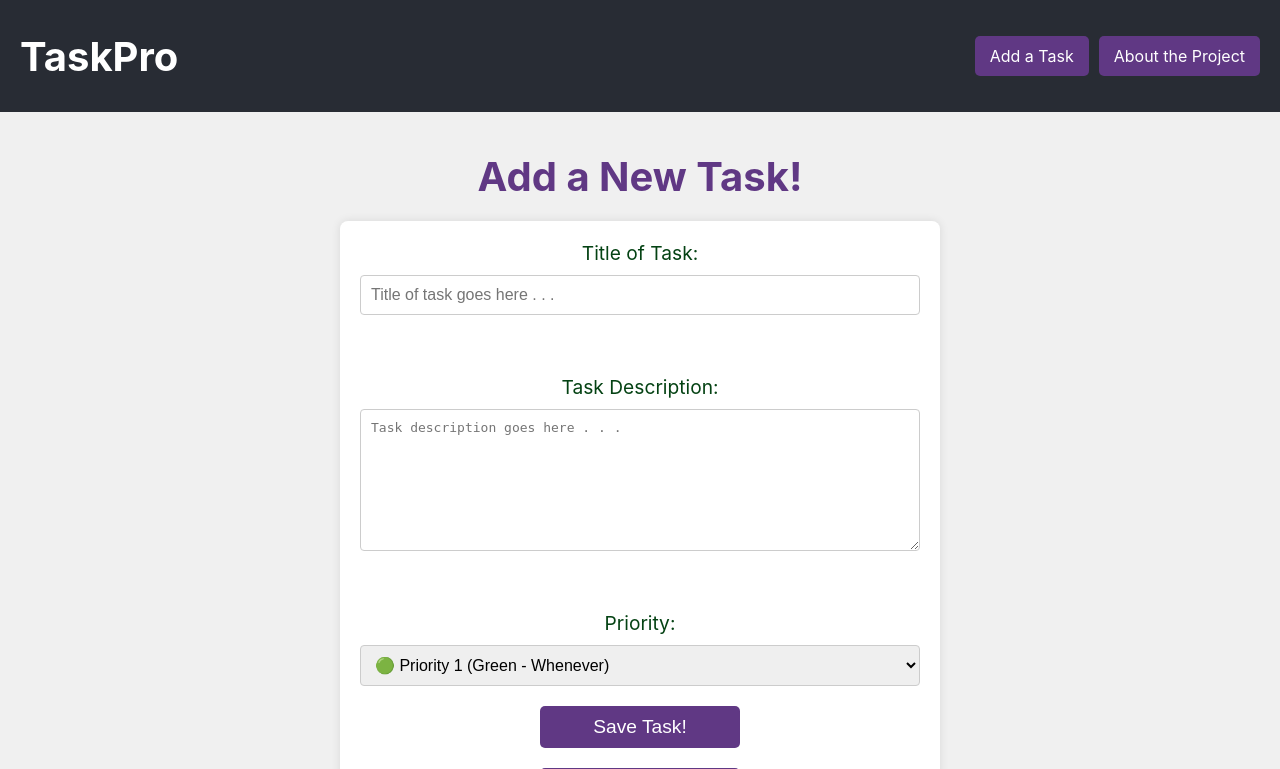
Test: HomePage functionality › should add a new task and display it on the homepage
This screenshot has width=1280, height=769.
Type "Sample Task Title" into the field named "taskTitle" at (640, 295), box top-left (360, 275), bottom-right (920, 315)
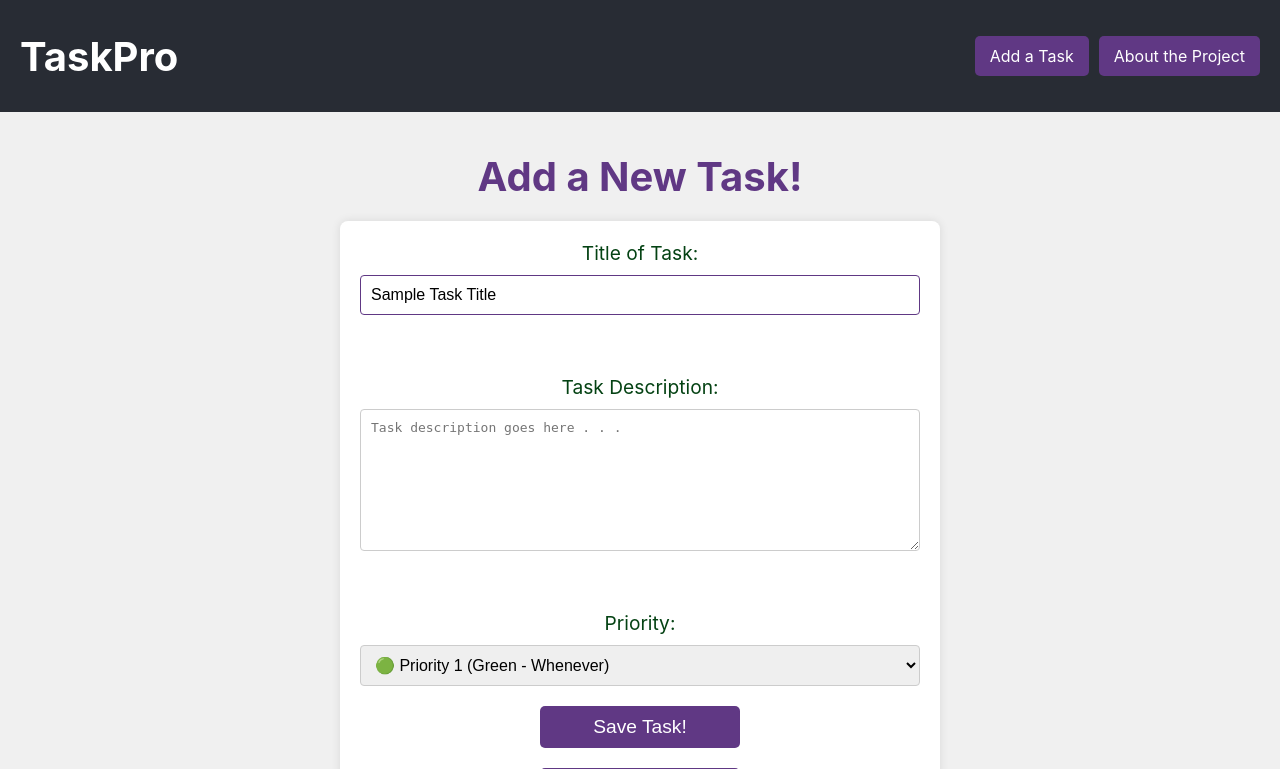
Type "Sample task description" into the text box named "taskDescription" at (640, 480), box top-left (360, 409), bottom-right (920, 551)
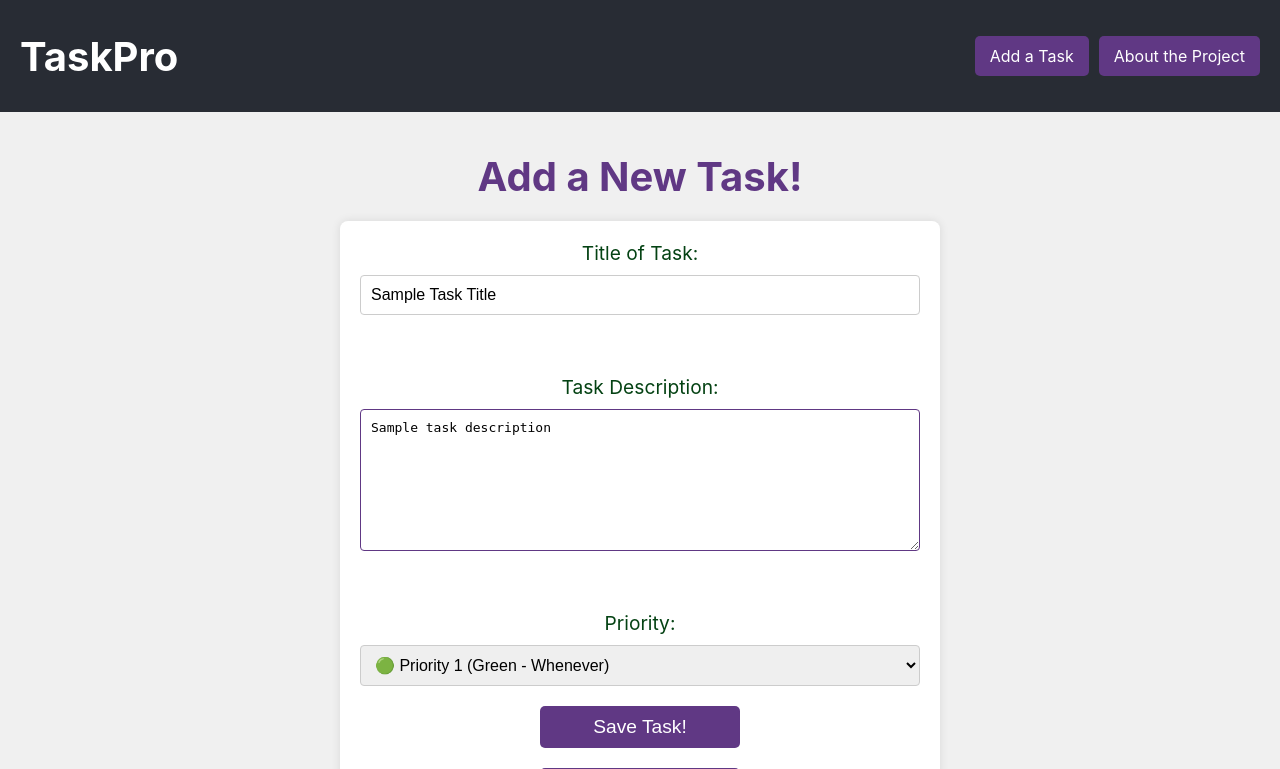
Select "🔵 Priority 2 (Blue - Start Planning)" in the dropdown with id "taskPriority" at (640, 666), box top-left (360, 645), bottom-right (920, 686)
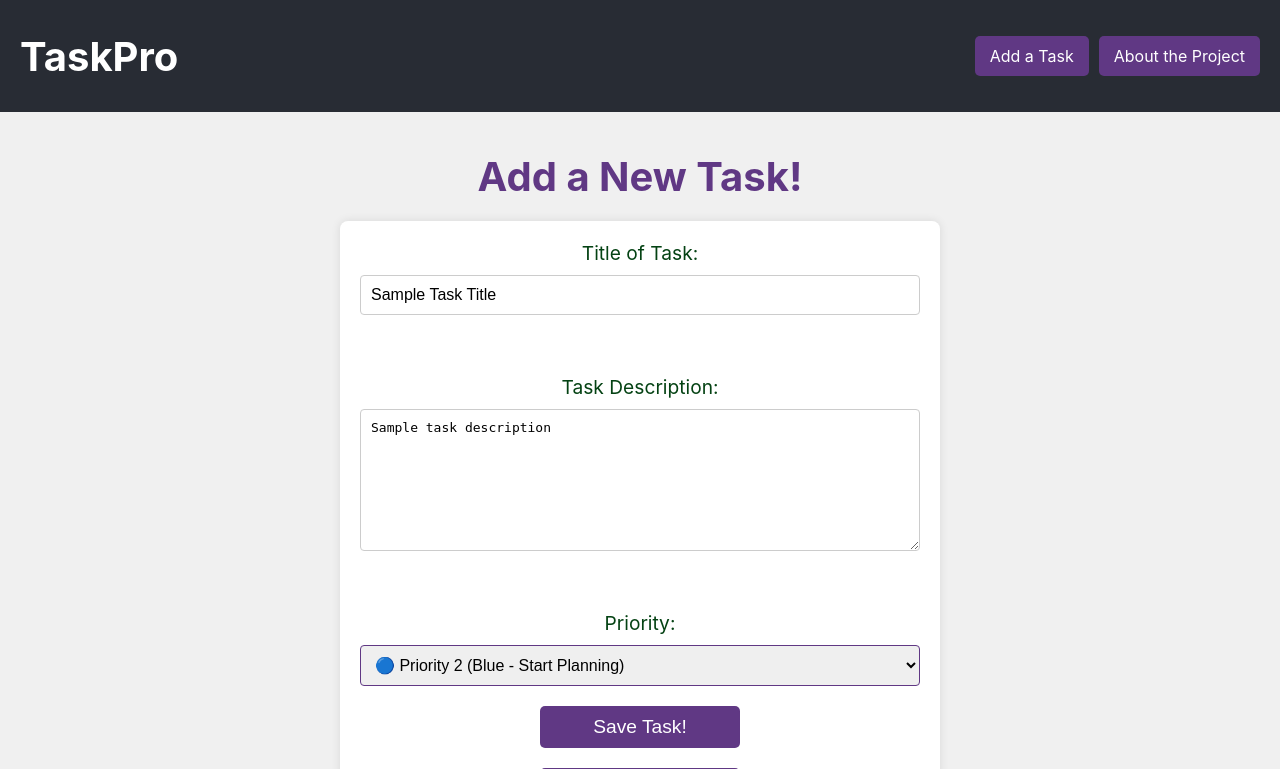
Click the button "Save Task!" at (640, 727), box top-left (540, 706), bottom-right (740, 748)
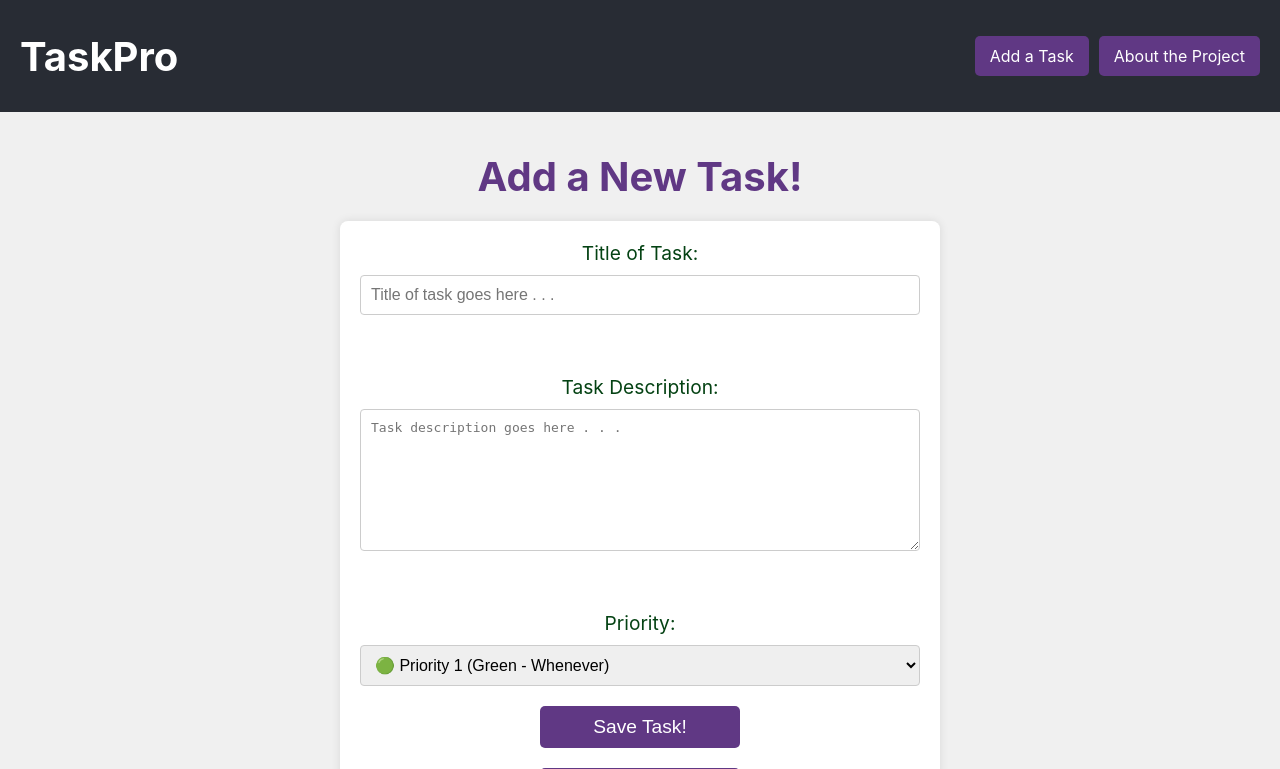
Scroll
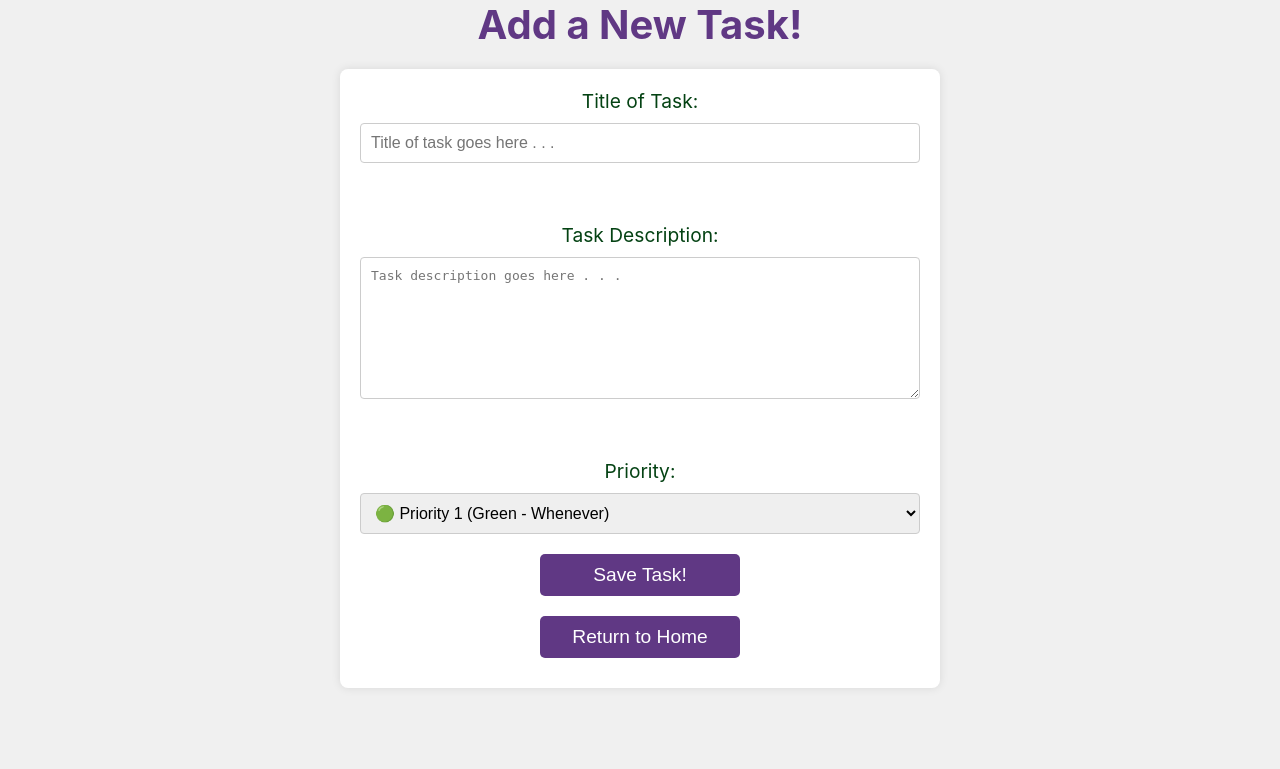
Click the button "Return to Home" at (640, 637), box top-left (540, 616), bottom-right (740, 658)
(page scrolled)
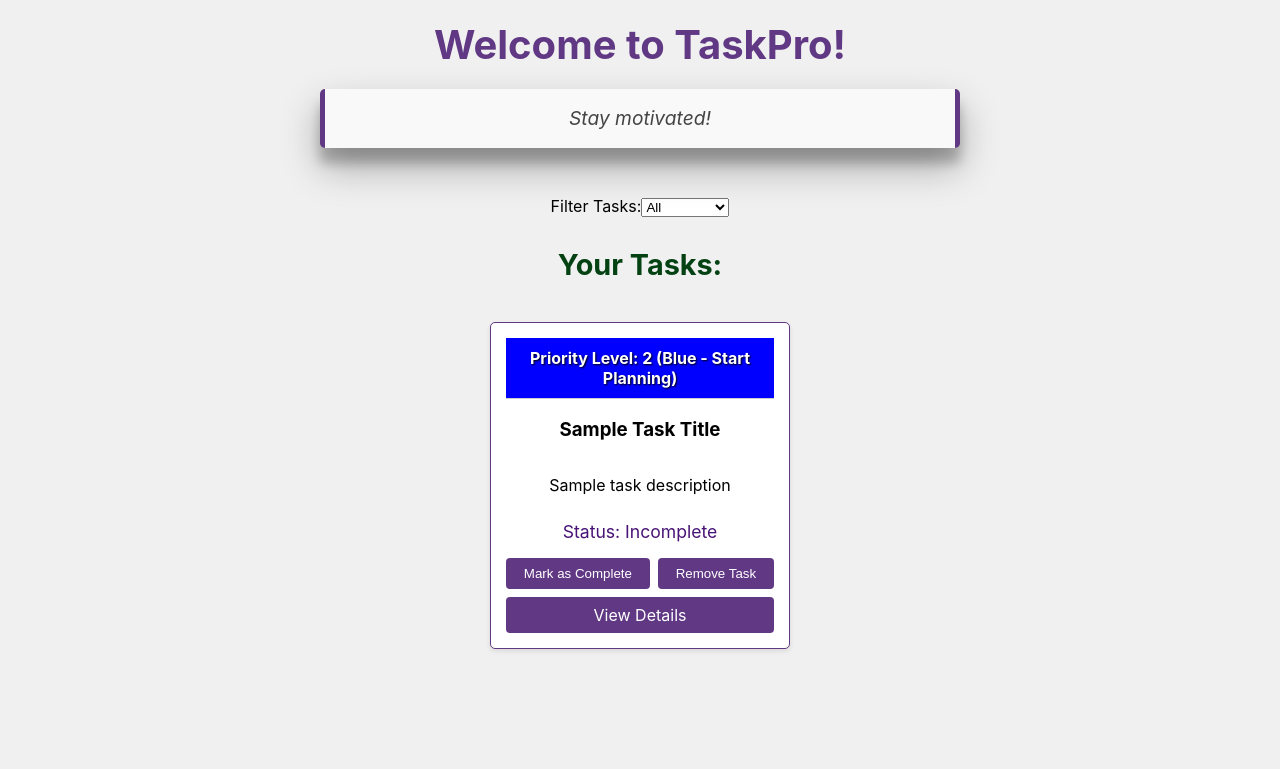
expect the element with class "task-card" is shown: met, box top-left (490, 322), bottom-right (790, 649)
expect the element with class "task-card-header" is shown: met, box top-left (506, 338), bottom-right (774, 399)
expect the heading "Sample Task Title" is shown: met, box top-left (560, 418), bottom-right (720, 440)
